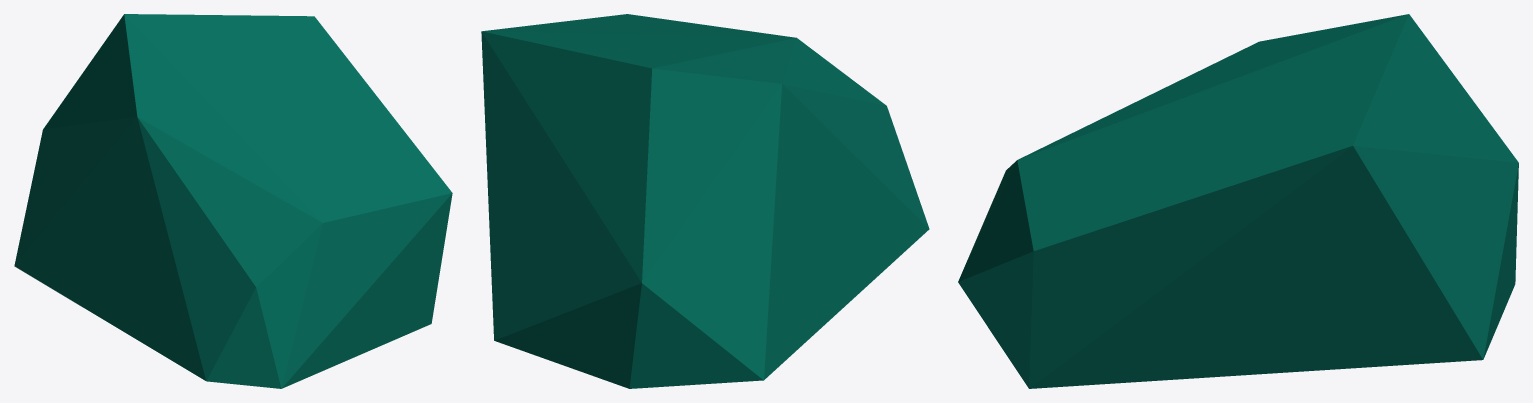
The model's file is Boulder_07_Collider_01.FBX.
3 renders of one model, left to right at view 1: azimuth 30°, elevation 25°; view 2: azimuth 150°, elevation 25°; view 3: azimuth 270°, elevation 25°, orthographic. The views are drawn at different scales.
Visible parts, largest first — view 1: COLLIDER1; view 2: COLLIDER1; view 3: COLLIDER1.
Boxes of the visible parts, x1=… form: COLLIDER1: x1=14, y1=14, x2=452, y2=388; COLLIDER1: x1=481, y1=14, x2=929, y2=388; COLLIDER1: x1=958, y1=14, x2=1518, y2=388.
Bounding box in the file's own units: 66.3 × 53.35 × 95.31.
